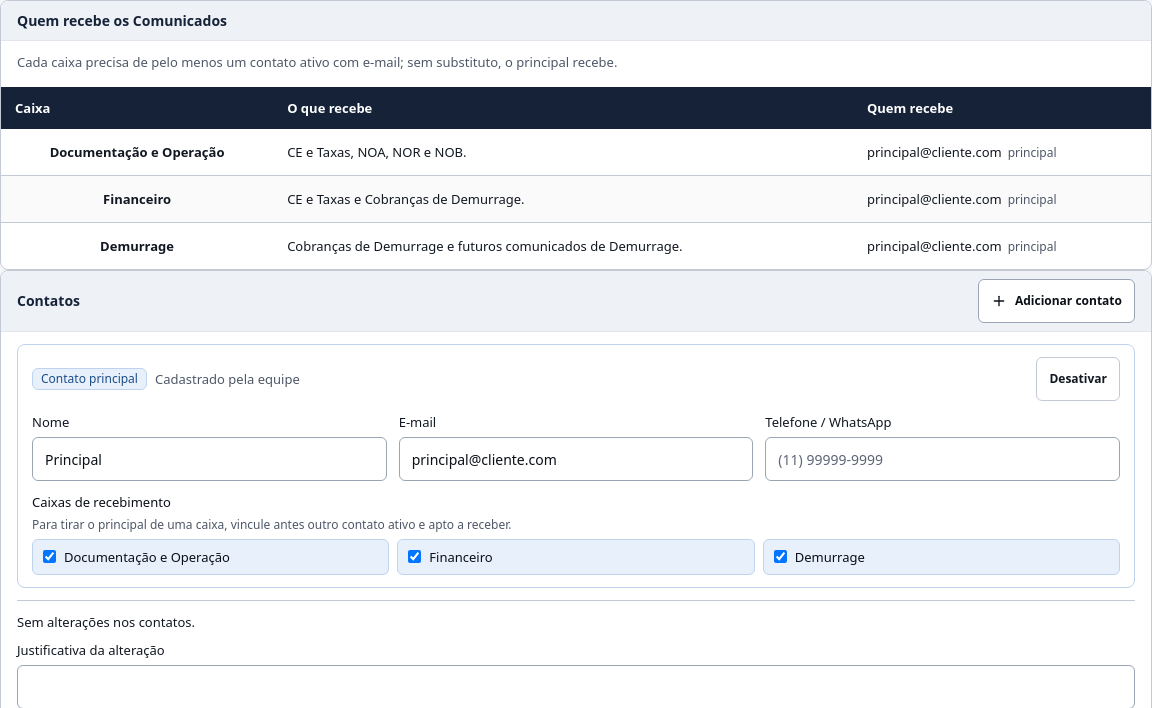
CustomerContactConfiguration (behavior) › duplicate identifies the existing contact (branded message surfaces)
Expected: the field showing "principal@cliente.com" is shown, [399,437,753,481]
Step 1. Click the button "Adicionar contato" → (1056, 301), box [978,279,1135,323]
(page scrolled)
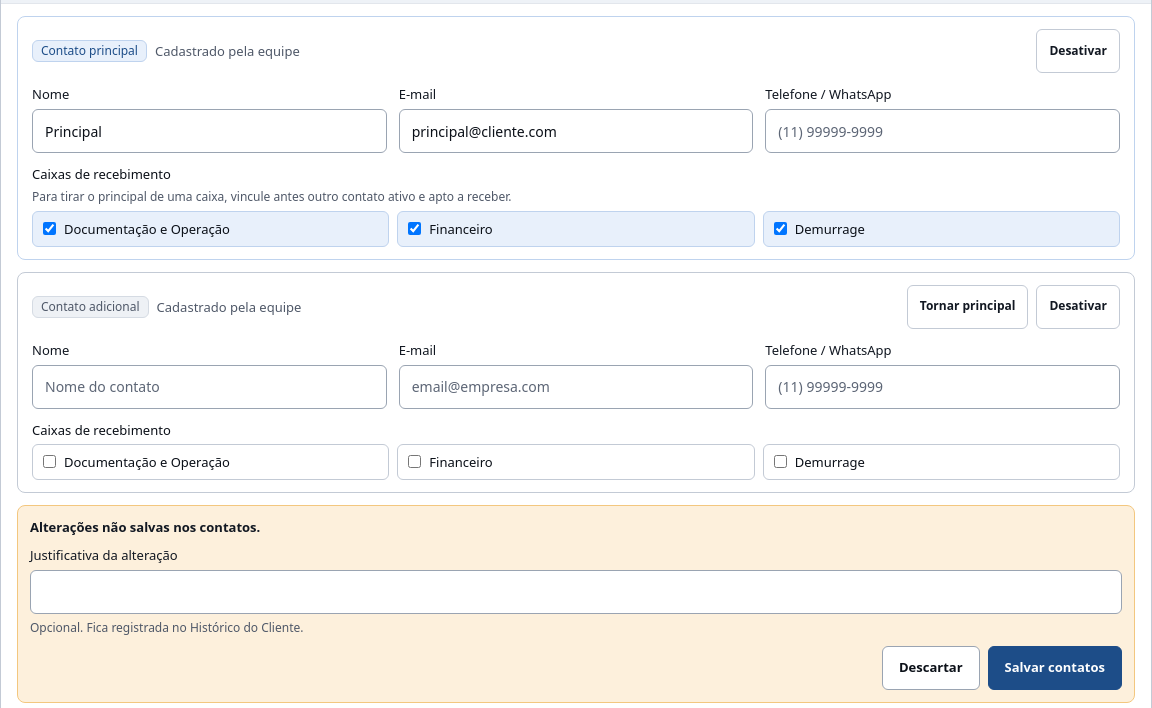
Step 2. Type "novo@cliente.com" into the field with placeholder "email@empresa.com" below "Contato adicional" → (576, 386), box [399,364,753,408]
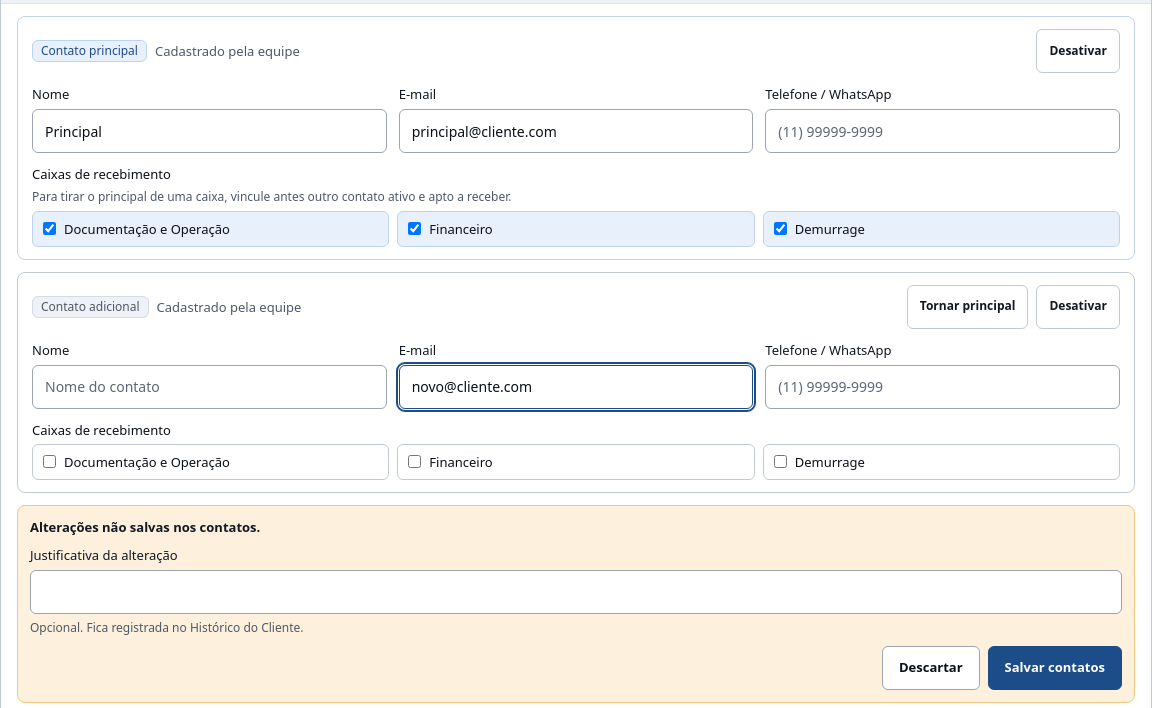
Step 3. Click the checkbox labelled "Documentação e Operação" below "Contato adicional" → (50, 462), box [43,455,56,468]
(page scrolled)
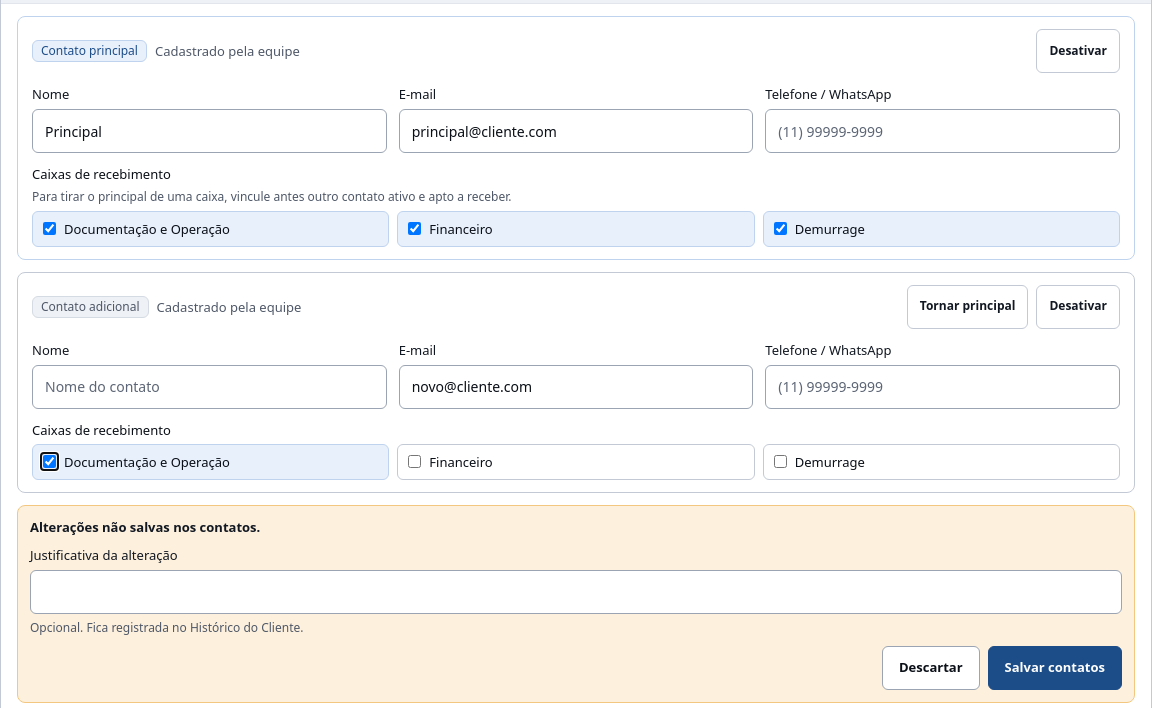
Step 4. Click the button "Salvar contatos" → (1055, 668), box [988,646,1122,690]
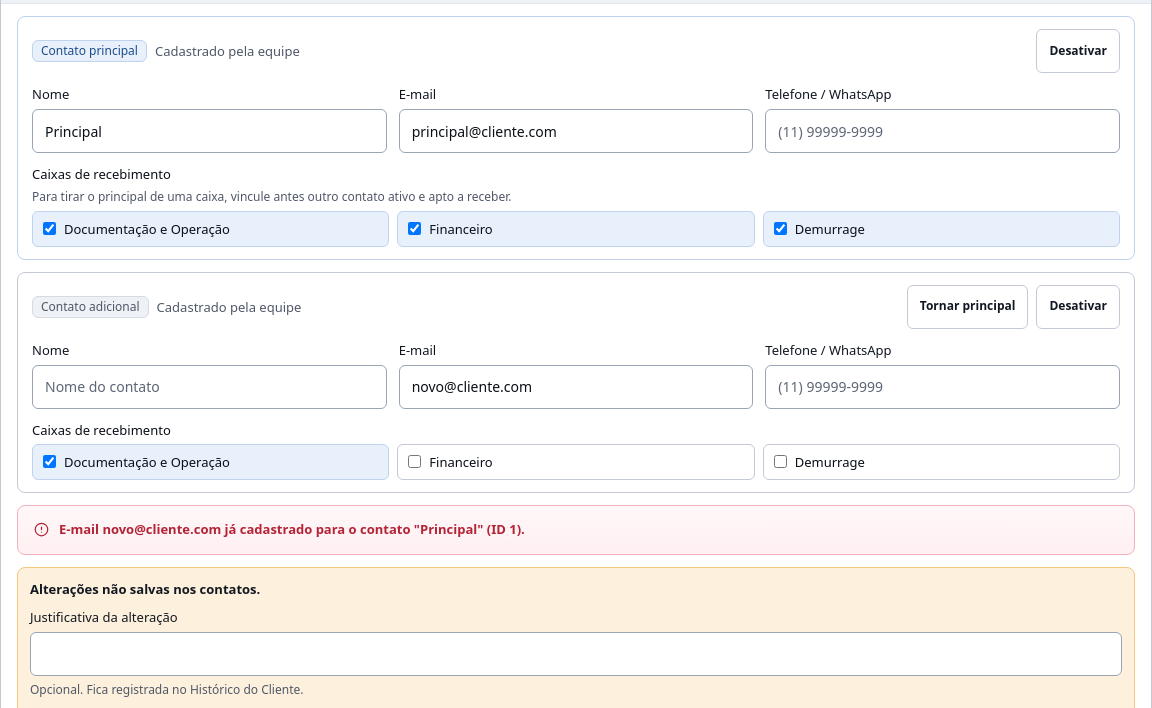
Expected: the message shows "já cadastrado para o contato", [59,520,525,538]
Expected: the message shows "ID 1", [59,520,525,538]
